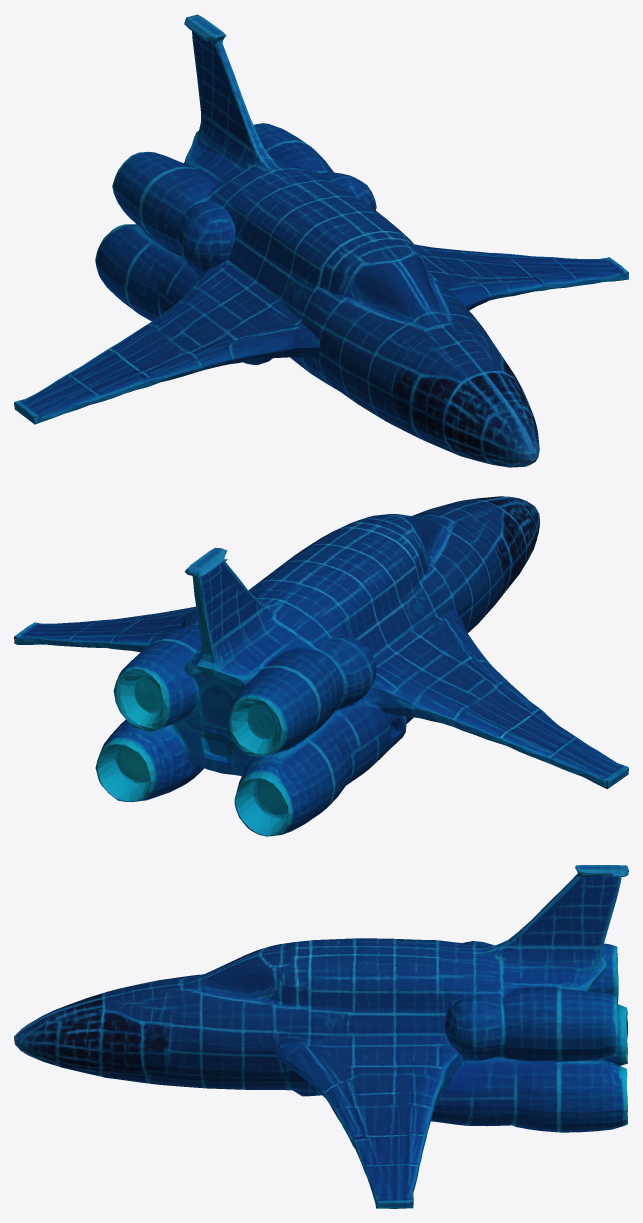
Rendered from spaceship-diagram.glb.
3 renders of one model, top to bottom at view 1: azimuth 30°, elevation 25°; view 2: azimuth 150°, elevation 25°; view 3: azimuth 270°, elevation 25°, orthographic. The views are drawn at different scales.
Parts seen in each view (by area): view 1: world; view 2: world; view 3: world.
Boxes of the visible parts, <box> form: world: <box>14,14,628,467</box>; world: <box>14,496,628,836</box>; world: <box>14,865,628,1208</box>.
Size of the model in its own units: 0.9928 by 0.4116 by 0.9871.
1 material, 1 textured.
